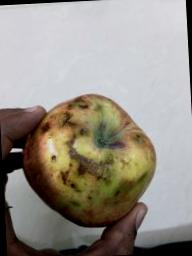Apple Overripe: (22, 86, 162, 230)
